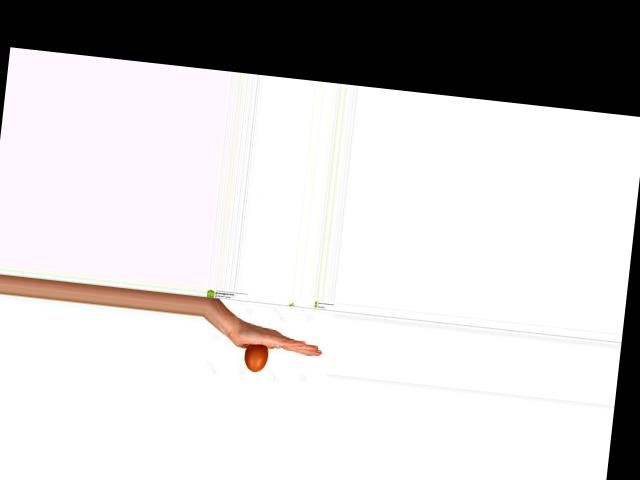egg: (243, 342, 269, 372)
